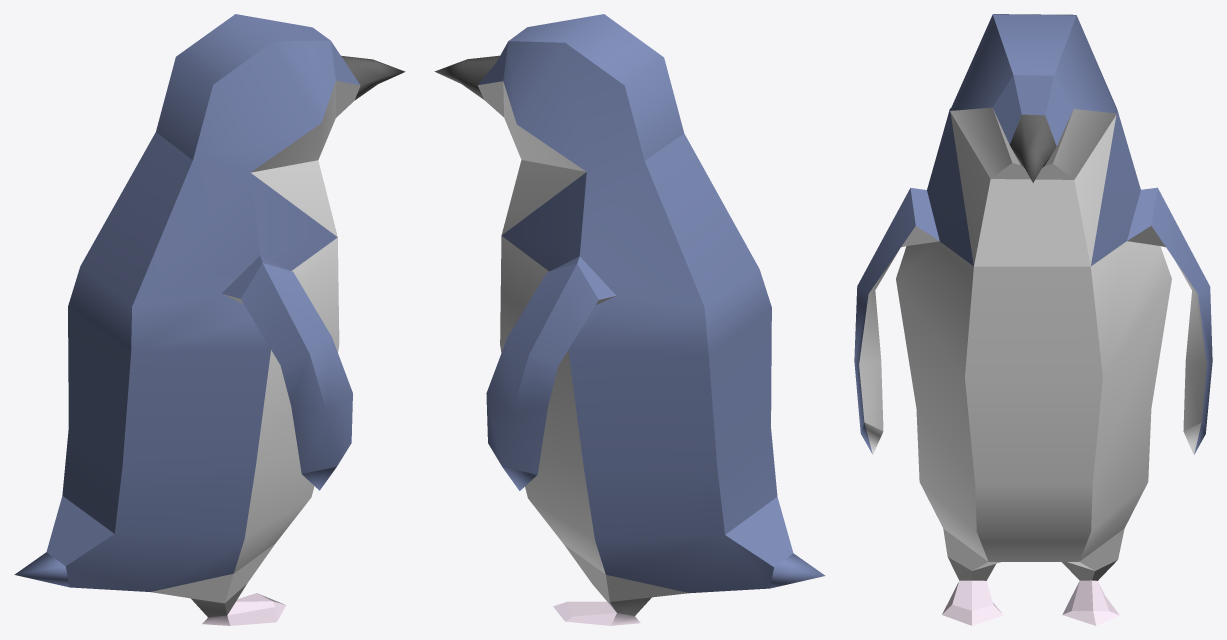
The model's file is Fairy_Penguin.fbx.
3 views of the same model, side by side, from view 1: azimuth 30°, elevation 25°; view 2: azimuth 150°, elevation 25°; view 3: azimuth 270°, elevation 25° (orthographic). The views are drawn at different scales.
Parts seen in each view (by area): view 1: Penguin; view 2: Penguin; view 3: Penguin.
Part boxes in pixels (x1,y1,x2,y2): Penguin: (14, 14, 405, 625); Penguin: (434, 14, 825, 625); Penguin: (854, 14, 1212, 625).
Size of the model in its own units: 6.54 by 8.93 by 4.75.
